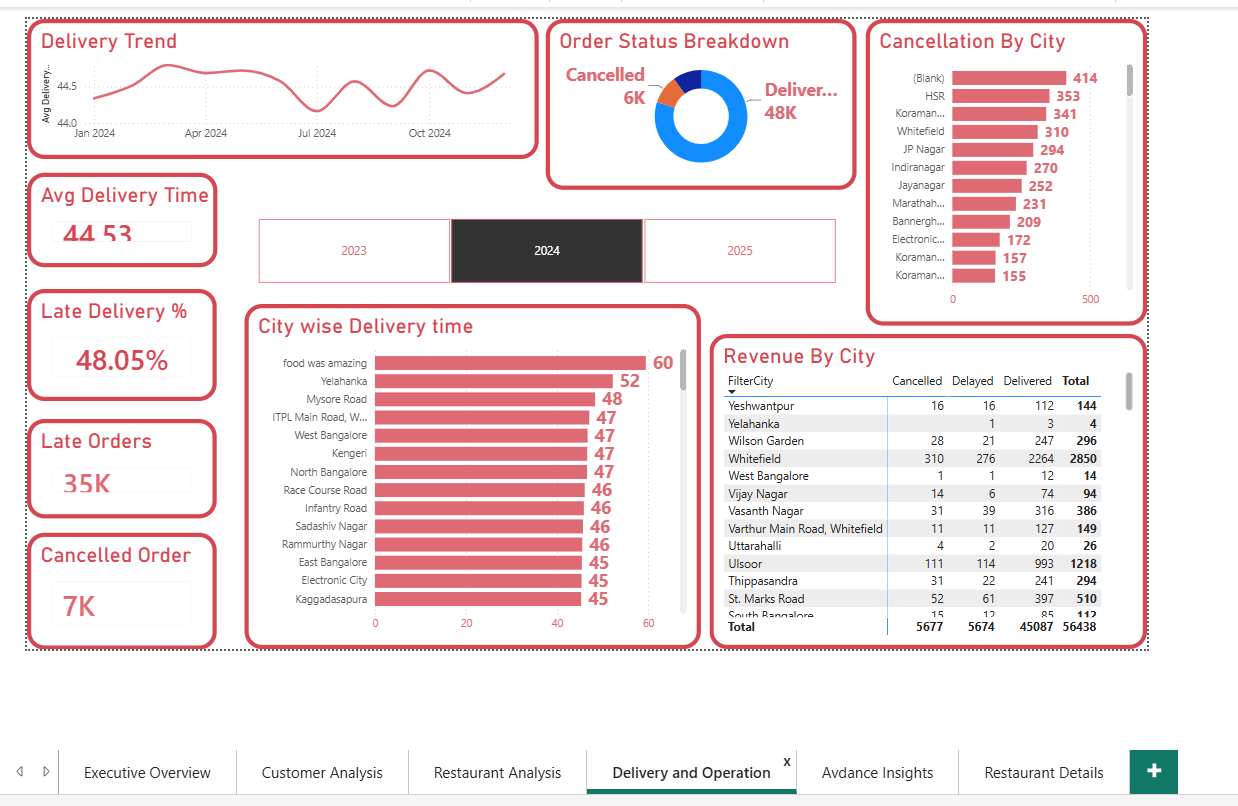

The page's visual inventory and layout, read from the dashboard file:
{"tool":"powerbi","page":{"name":"Delivery and Operation","canvas":[1280,720],"ordinal":3},"visuals":[{"type":"cardVisual","title":"Avg Delivery Time","fields":{"Data":["Orders.Avg Delivery Time"]},"box":[0,175.3,217.4,108],"z":0},{"type":"cardVisual","title":"Late Delivery %","fields":{"Data":["Orders.Late Delivery %"]},"box":[0,308.3,216.7,128.3],"z":1000},{"type":"cardVisual","title":"Late Orders","fields":{"Data":["Orders.Late Orders"]},"box":[0,456.7,216.7,113.3],"z":2000},{"type":"cardVisual","title":"Cancelled Order","fields":{"Data":["Orders.Cancelled Orders"]},"box":[0,586.7,216.7,133.3],"z":3000},{"type":"lineChart","title":"Delivery Trend","fields":{"Category":["DateTable.Date.Variation.Date Hierarchy.Year","DateTable.Date.Variation.Date Hierarchy.Month"],"Y":["Orders.Avg Delivery Time"]},"box":[0,0,585,160],"z":4000},{"type":"barChart","title":"City wise Delivery time","fields":{"Y":["Orders.Avg Delivery Time"],"Category":["Customers.FilterCity"]},"box":[248.2,325.3,521.6,394],"z":5000},{"type":"donutChart","title":"Order Status Breakdown","fields":{"Y":["Orders.Total Orders"],"Category":["Orders.OrderStatus"]},"box":[593.3,0,355,195],"z":6000},{"type":"barChart","title":"Cancellation By City","fields":{"Category":["Customers.FilterCity"],"Y":["Orders.Cancelled Orders"]},"box":[958.3,0,321.7,350],"z":7000},{"type":"pivotTable","title":"Revenue By City","fields":{"Rows":["Customers.FilterCity"],"Columns":["Orders.OrderStatus"],"Values":["Orders.Total Orders"]},"box":[780,360,500,360],"z":8000},{"type":"slicer","fields":{"Values":["DateTable.Date.Variation.Date Hierarchy.Year"]},"box":[238.4,221.6,709.6,86.9],"z":9000}]}

Visuals, with their boxes on the page's 1280x720 design canvas (x1, y1, x2, y2). These are canvas units, not pixel positions in the 1238x806 screenshot, which may show the page scaled, cropped or inside an application window:
"Avg Delivery Time" cardVisual: left=0, top=175, right=217, bottom=283
"Late Delivery %" cardVisual: left=0, top=308, right=217, bottom=437
"Late Orders" cardVisual: left=0, top=457, right=217, bottom=570
"Cancelled Order" cardVisual: left=0, top=587, right=217, bottom=720
"Delivery Trend" lineChart: left=0, top=0, right=585, bottom=160
"City wise Delivery time" barChart: left=248, top=325, right=770, bottom=719
"Order Status Breakdown" donutChart: left=593, top=0, right=948, bottom=195
"Cancellation By City" barChart: left=958, top=0, right=1280, bottom=350
"Revenue By City" pivotTable: left=780, top=360, right=1280, bottom=720
slicer - DateTable.Date.Variation.Date Hierarchy.Year: left=238, top=222, right=948, bottom=308
